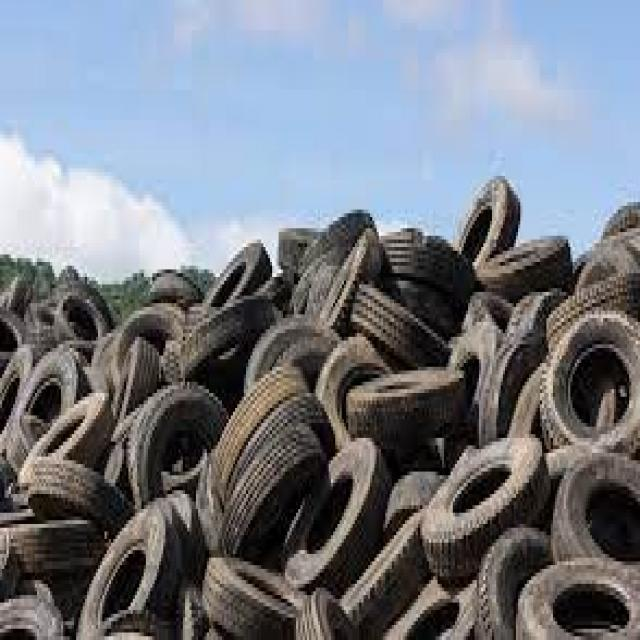Rubber -Non-Biodegradable but Recyclable-: (0, 177, 637, 640)
